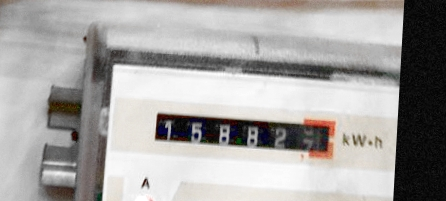1: (161, 117, 176, 140)
2: (271, 125, 289, 150)
5: (188, 119, 204, 144)
7: (301, 134, 314, 151)
8: (244, 124, 260, 148), (216, 122, 231, 146)
screen: (145, 102, 344, 168)
